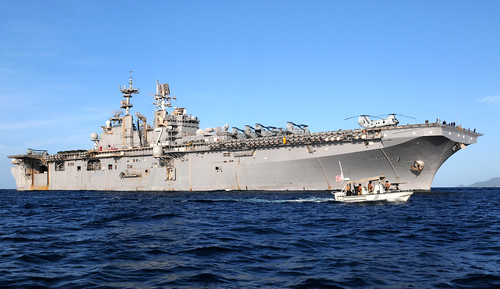boat: (9, 77, 480, 190), (320, 172, 413, 211)
sea: (1, 191, 494, 289)
sky: (8, 1, 500, 144)
